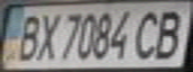0: (78, 8, 96, 61)
4: (109, 6, 139, 61)
7: (57, 8, 81, 61)
8: (93, 7, 118, 61)
B: (145, 4, 193, 61), (9, 10, 45, 62)
C: (127, 6, 169, 61)
X: (30, 9, 63, 62)
